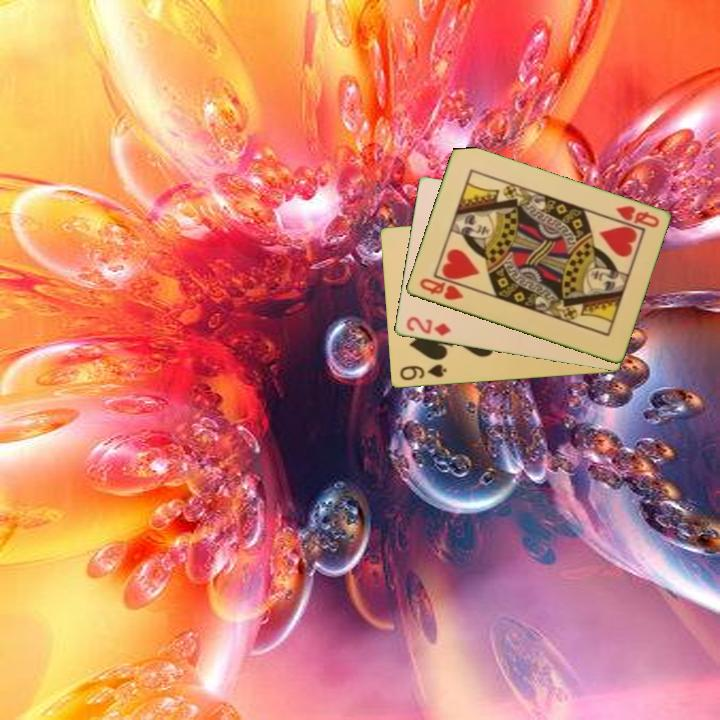2d: (402, 313, 454, 339)
9s: (396, 361, 449, 384)
Qh: (611, 202, 662, 231), (416, 275, 466, 303)
